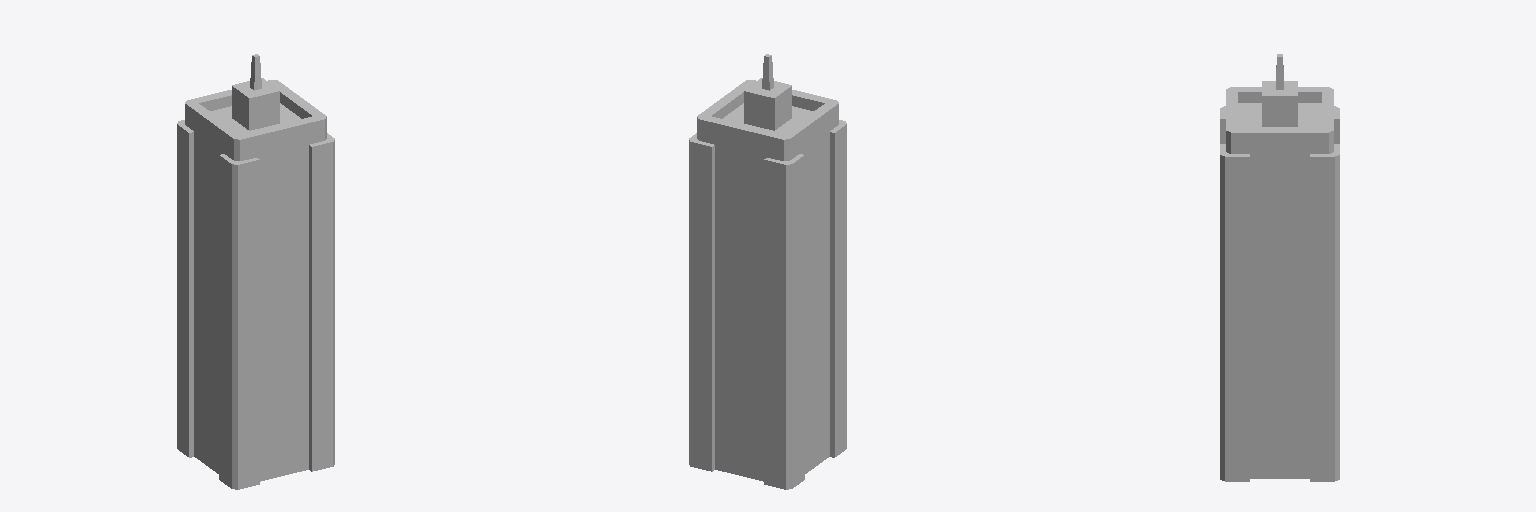
File: low-detail-building-l.obj
3 views of the same model, side by side, from view 1: azimuth 30°, elevation 25°; view 2: azimuth 150°, elevation 25°; view 3: azimuth 270°, elevation 25° (orthographic).
Parts seen in each view (by area): view 1: low-detail-building-l; view 2: low-detail-building-l; view 3: low-detail-building-l.
Part boxes in pixels (x1,y1,x2,y2): low-detail-building-l: (177,54,334,489); low-detail-building-l: (689,54,846,489); low-detail-building-l: (1220,54,1339,481).
Size of the model in its own units: 0.5 by 1.85 by 0.5.